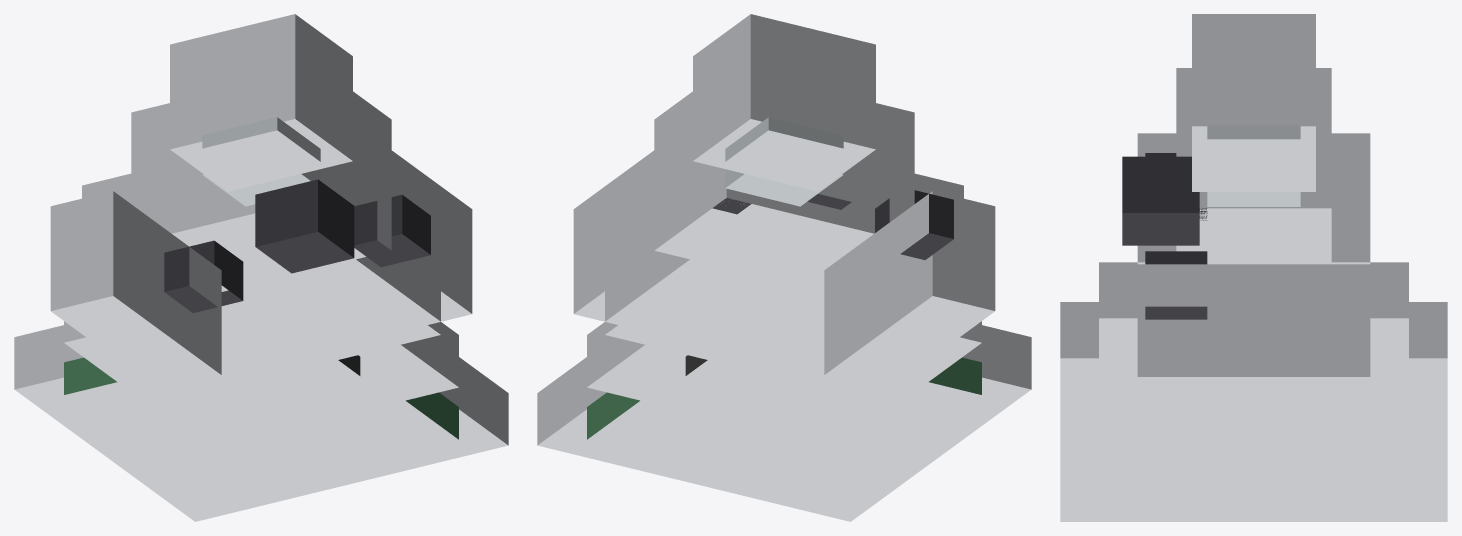
File: laser_pickup.gltf
3 views of the same model, side by side, from view 1: azimuth 30°, elevation 25°; view 2: azimuth 150°, elevation 25°; view 3: azimuth 270°, elevation 25° (orthographic). The views are drawn at different scales.
Visible parts, largest first — view 1: laser_pickup; view 2: laser_pickup; view 3: laser_pickup.
Boxes of the visible parts, left/top/right/bottom form: laser_pickup: left=14, top=14, right=508, bottom=521; laser_pickup: left=537, top=14, right=1031, bottom=521; laser_pickup: left=1060, top=14, right=1447, bottom=521.
Bounding box in the file's own units: 0.05 × 0.057 × 0.05.
